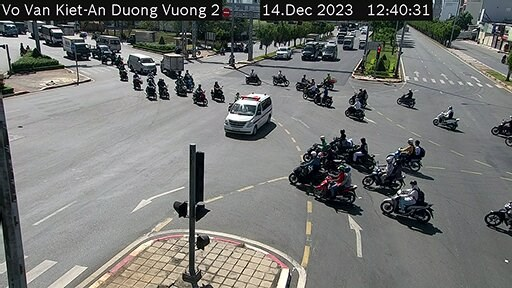car: (234, 88, 276, 145), (126, 49, 156, 74), (295, 41, 321, 67), (98, 32, 126, 52), (273, 46, 293, 68), (322, 43, 340, 65)
motorbike: (390, 182, 436, 227), (329, 166, 363, 212), (392, 133, 427, 171), (376, 153, 404, 191), (317, 159, 344, 194), (298, 149, 321, 188), (348, 136, 375, 169), (440, 102, 467, 131), (485, 200, 512, 228), (305, 134, 338, 156), (333, 128, 353, 157), (348, 97, 370, 121), (190, 77, 206, 107), (398, 87, 418, 110), (352, 82, 369, 107), (155, 77, 170, 101), (273, 68, 291, 88), (207, 83, 224, 104), (322, 69, 339, 90), (315, 85, 330, 108), (502, 116, 512, 147), (172, 75, 185, 98), (143, 81, 158, 100), (298, 71, 310, 94), (116, 63, 129, 82), (130, 70, 141, 91), (247, 69, 261, 84), (182, 69, 193, 88), (307, 78, 314, 101)
truck: (65, 34, 90, 60), (40, 24, 68, 47), (157, 52, 185, 74), (340, 34, 355, 54)
